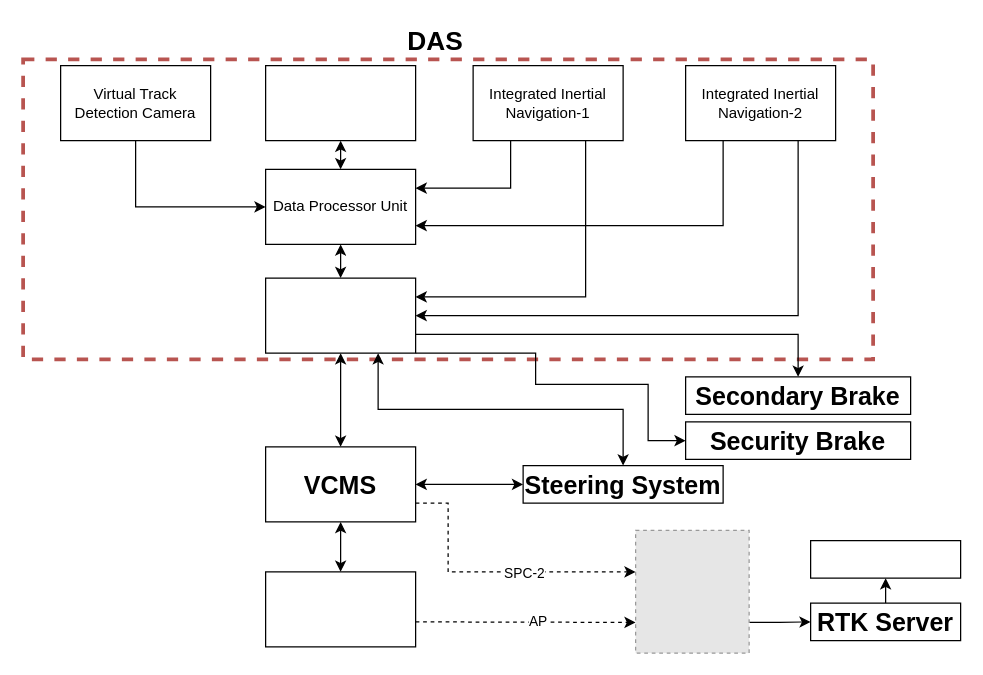
This 983x675 diagram has some shape labels left out. Grey dashed boxes stand in for pictures. Here are the shapes that lost their labels. From the top down, the centre of each, then its label:
(x=340, y=102): Lidar
(x=340, y=315): Intelligent Driving Computing Platform
(x=885, y=558): RTK
(x=340, y=609): S&CS
